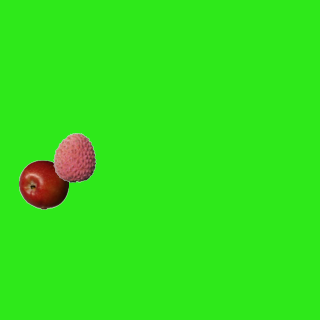Apple Braeburn: (18, 159, 68, 209)
Lychee: (49, 132, 99, 182)
